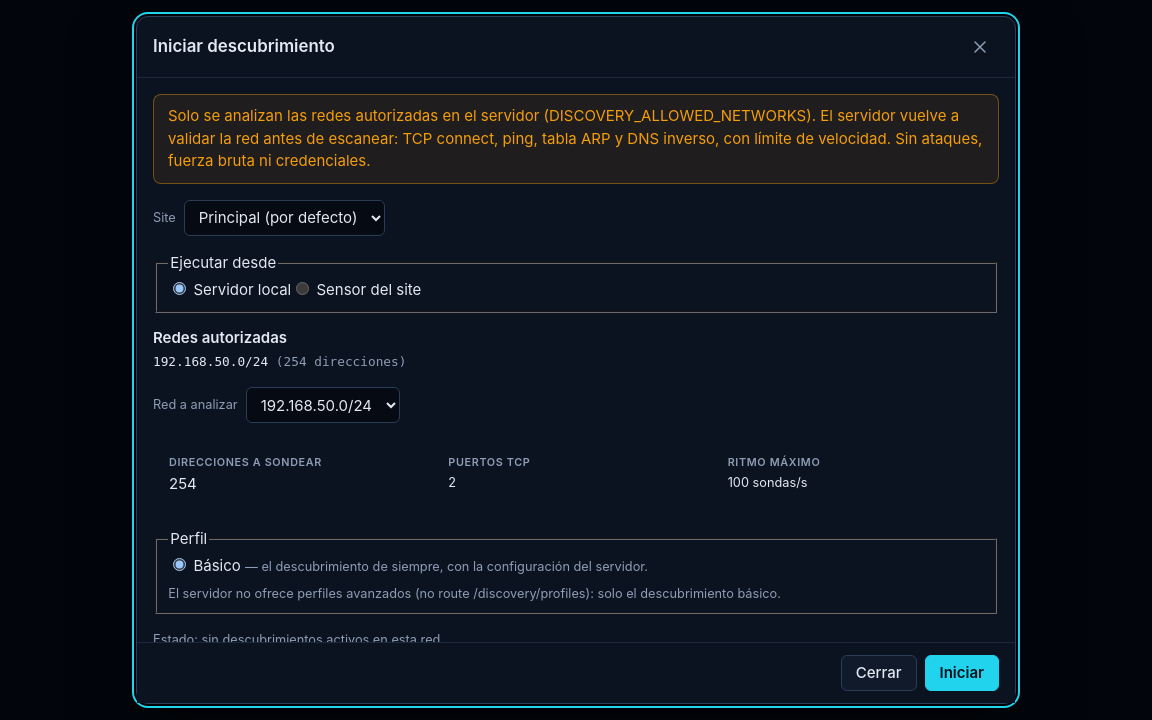
DiscoveryModal con sites y sensores › en otro site solo permite sensores de ESE site no revocados ni deshabilitados
Select "Sucursal Norte" in the dropdown labelled "Site" at point(284, 218), box [184, 200, 385, 236]
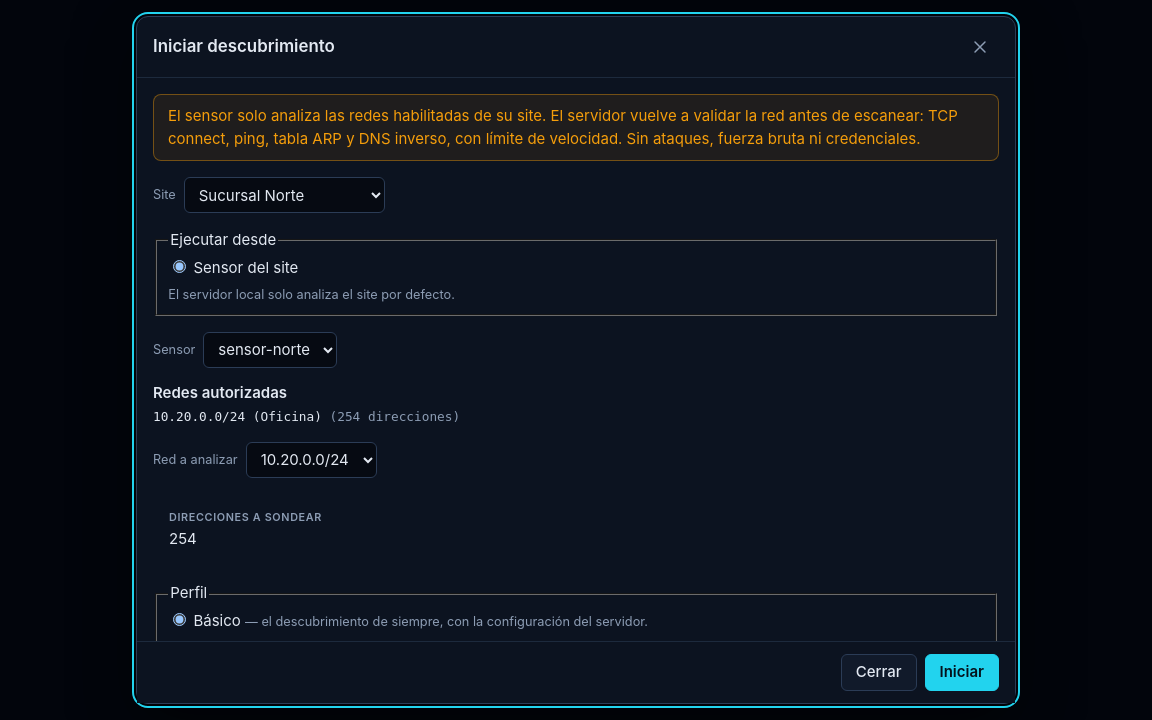
Result: the radio button labelled "Sensor del site" is checked at [173, 260, 186, 273]
Click the button "Iniciar" at point(962, 673), box [924, 654, 999, 691]
(page scrolled)
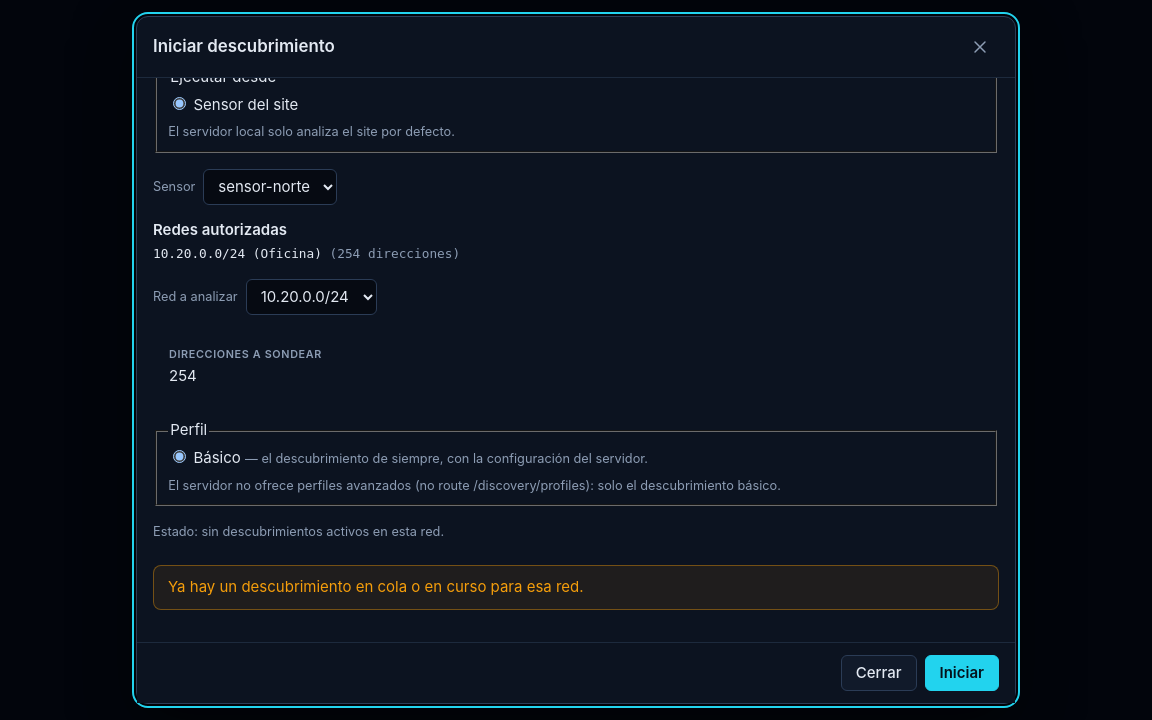
Result: the text "Ya hay un descubrimiento en cola o en curso para esa red." is shown at [153, 565, 999, 610]
